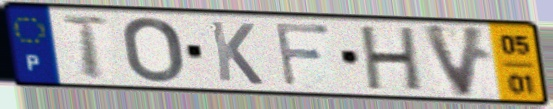F: (271, 20, 334, 89)
H: (359, 25, 425, 94)
K: (206, 18, 266, 87)
O: (119, 15, 187, 85)
T: (59, 13, 114, 81)
V: (418, 21, 490, 100)
